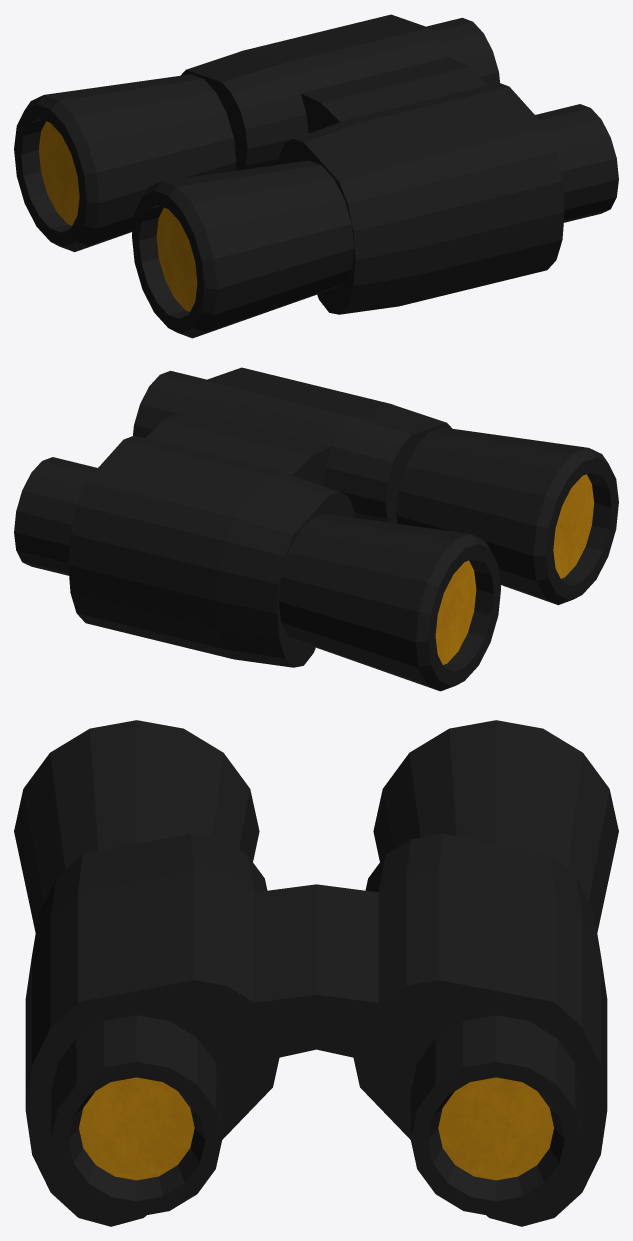
Rendered from mod_player_binoculars.fbx.
3 views of the same model, one above another, from view 1: azimuth 30°, elevation 25°; view 2: azimuth 150°, elevation 25°; view 3: azimuth 270°, elevation 25° (orthographic). The views are drawn at different scales.
Parts seen in each view (by area): view 1: mesh_obj_player_binoculars; view 2: mesh_obj_player_binoculars; view 3: mesh_obj_player_binoculars.
Part boxes in pixels (x1,y1,x2,y2): mesh_obj_player_binoculars: (14, 14, 618, 338); mesh_obj_player_binoculars: (14, 367, 618, 691); mesh_obj_player_binoculars: (14, 720, 618, 1226).
Bounding box in the file's own units: 870 × 318 × 707.
